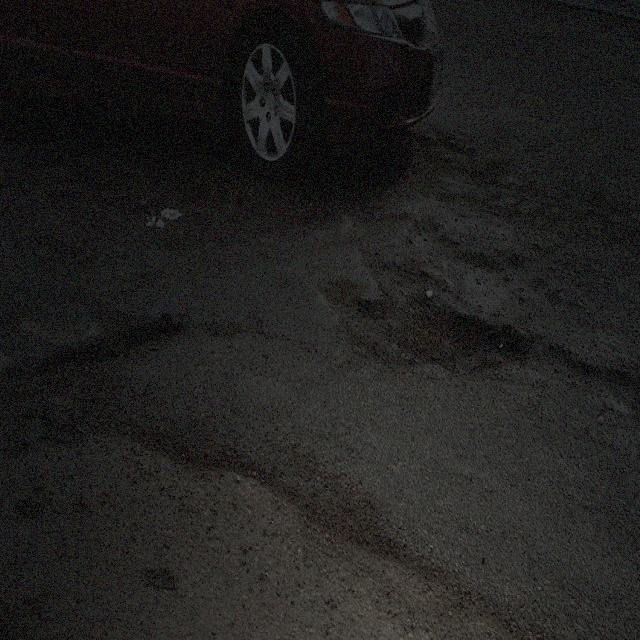pothole: (318, 239, 530, 385), (40, 300, 184, 381), (13, 397, 71, 447)
